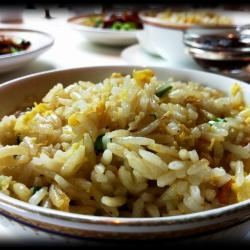rice: (17, 86, 243, 209)
